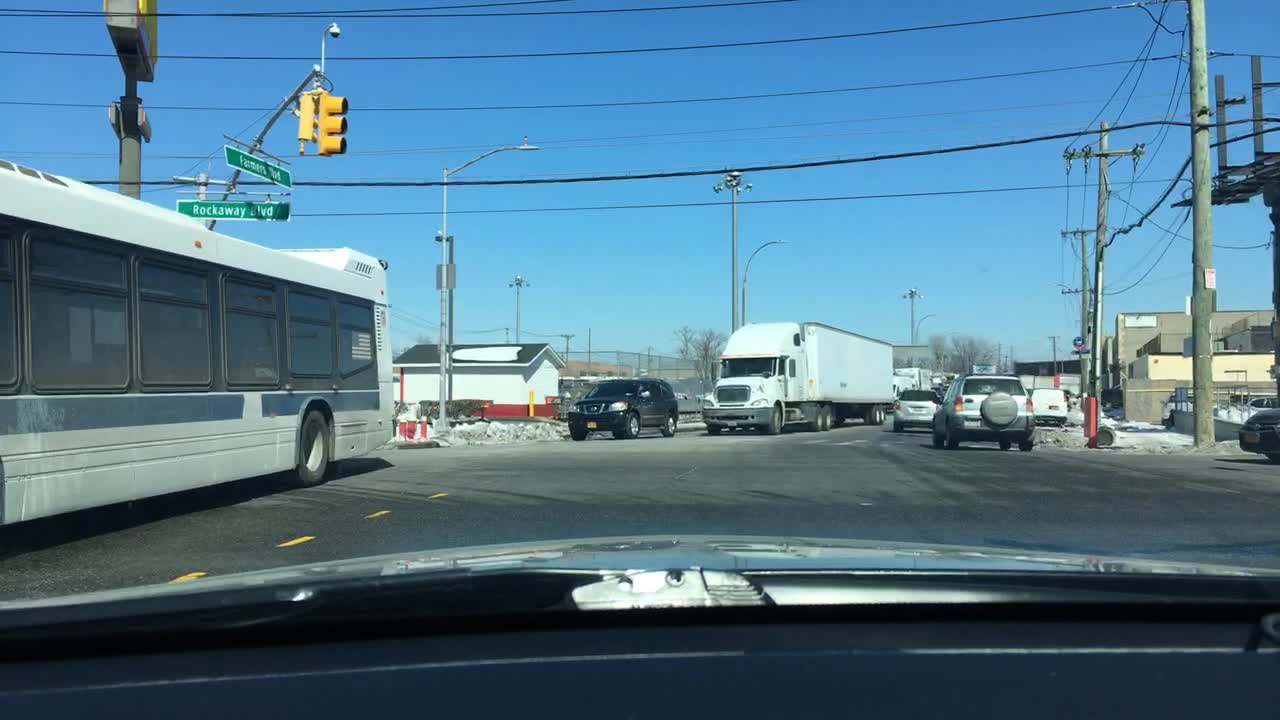bus: (0, 153, 396, 538)
car: (931, 370, 1035, 453), (568, 374, 680, 440), (1231, 396, 1279, 464), (892, 385, 943, 431), (1031, 387, 1070, 427)
traffic light: (315, 91, 348, 158)
traffic sign: (222, 142, 295, 188), (175, 196, 292, 221), (433, 262, 455, 288), (1070, 335, 1085, 349), (1071, 350, 1090, 355)
truck: (699, 319, 895, 436)
